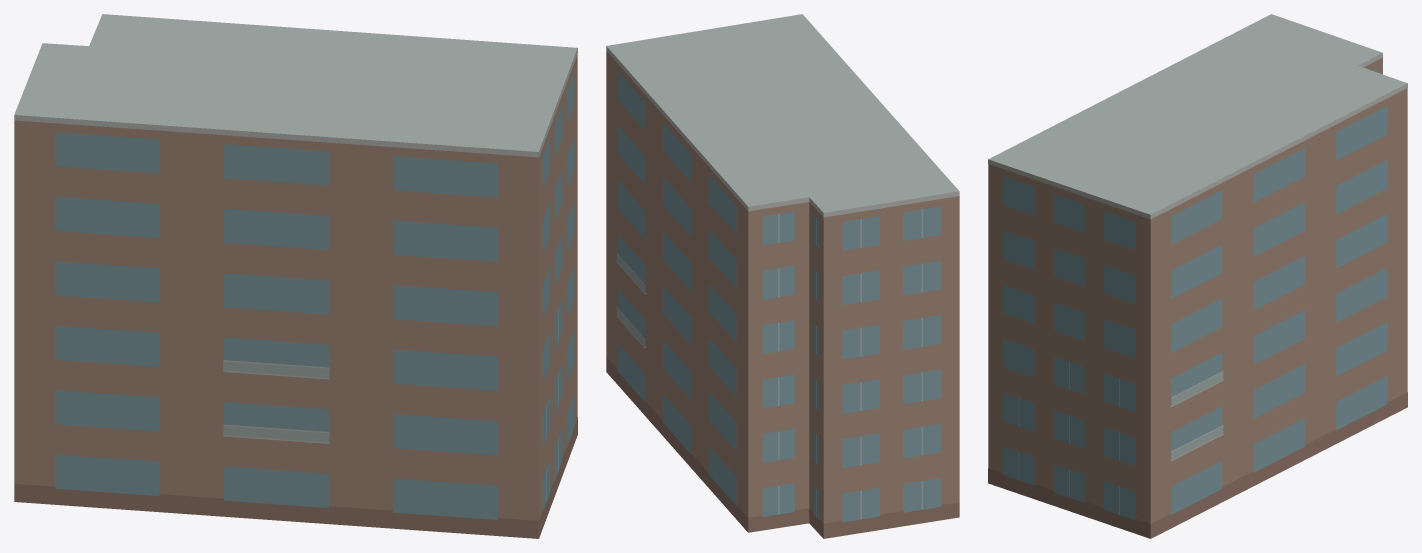
Rendered from survey-upis-33040161.glb.
3 renders of one model, left to right at view 1: azimuth 30°, elevation 25°; view 2: azimuth 150°, elevation 25°; view 3: azimuth 270°, elevation 25°, orthographic. The views are drawn at different scales.
Parts seen in each view (by area): view 1: survey-upis-33040161.tmp; view 2: survey-upis-33040161.tmp; view 3: survey-upis-33040161.tmp.
Boxes of the visible parts, left/top/right/bottom form: survey-upis-33040161.tmp: left=14, top=14, right=577, bottom=538; survey-upis-33040161.tmp: left=606, top=14, right=959, bottom=538; survey-upis-33040161.tmp: left=988, top=14, right=1407, bottom=538.
Size of the model in its own units: 22.87 by 17.2 by 20.19.
